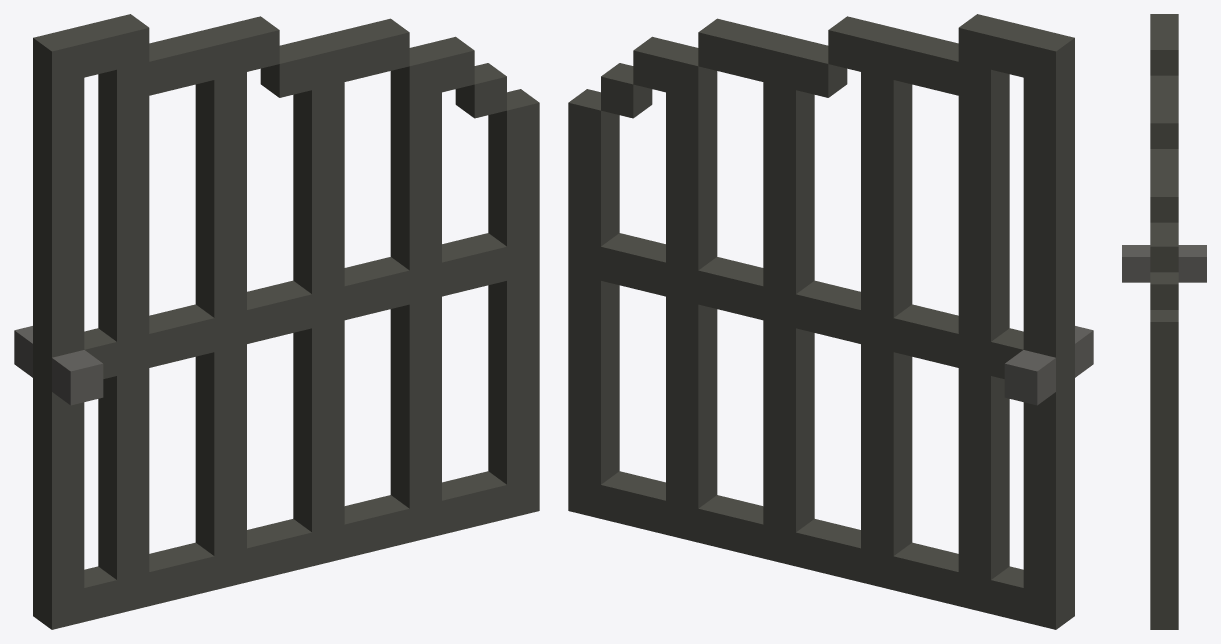
Rendered from church-44-gy_gatedbl.obj.
The picture shows the model from 3 angles, left to right: view 1: azimuth 30°, elevation 25°; view 2: azimuth 150°, elevation 25°; view 3: azimuth 270°, elevation 25°; orthographic projection. The views are drawn at different scales.
Visible parts, largest first — view 1: gy_gatedbl; view 2: gy_gatedbl; view 3: gy_gatedbl.
Boxes of the visible parts, x1=… form: gy_gatedbl: x1=14, y1=14, x2=539, y2=629; gy_gatedbl: x1=568, y1=14, x2=1093, y2=629; gy_gatedbl: x1=1122, y1=14, x2=1206, y2=629.
Size of the model in its own units: 1.5 by 1.7 by 0.3.
Materials: 1 (1 with a texture image).
